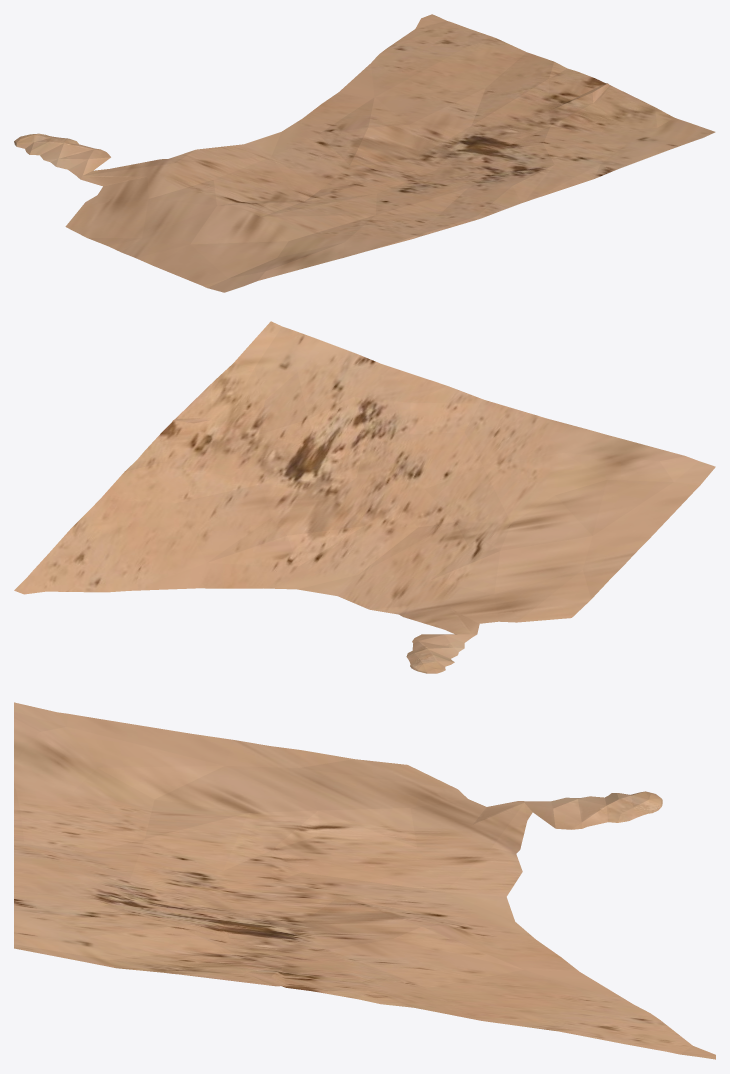
The picture shows the model from 3 angles, top to bottom: view 1: azimuth 30°, elevation 25°; view 2: azimuth 150°, elevation 25°; view 3: azimuth 270°, elevation 25°; orthographic projection. The views are drawn at different scales.
Size of the model in its own units: 1.04 by 0.1856 by 1.04.
Materials: 2 (2 with a texture image).
